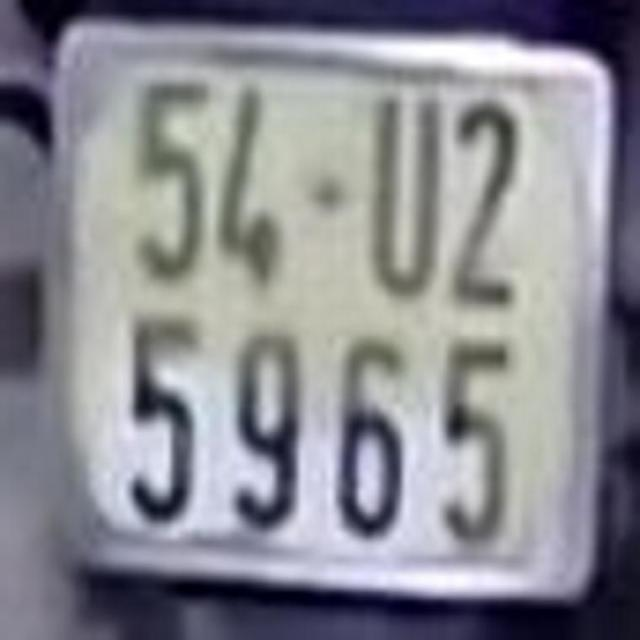2: (456, 99, 519, 303)
4: (216, 84, 292, 284)
5: (435, 338, 512, 537), (132, 310, 206, 516), (144, 84, 212, 284)
6: (331, 337, 408, 536)
9: (237, 328, 310, 527)
U: (371, 94, 444, 296)
